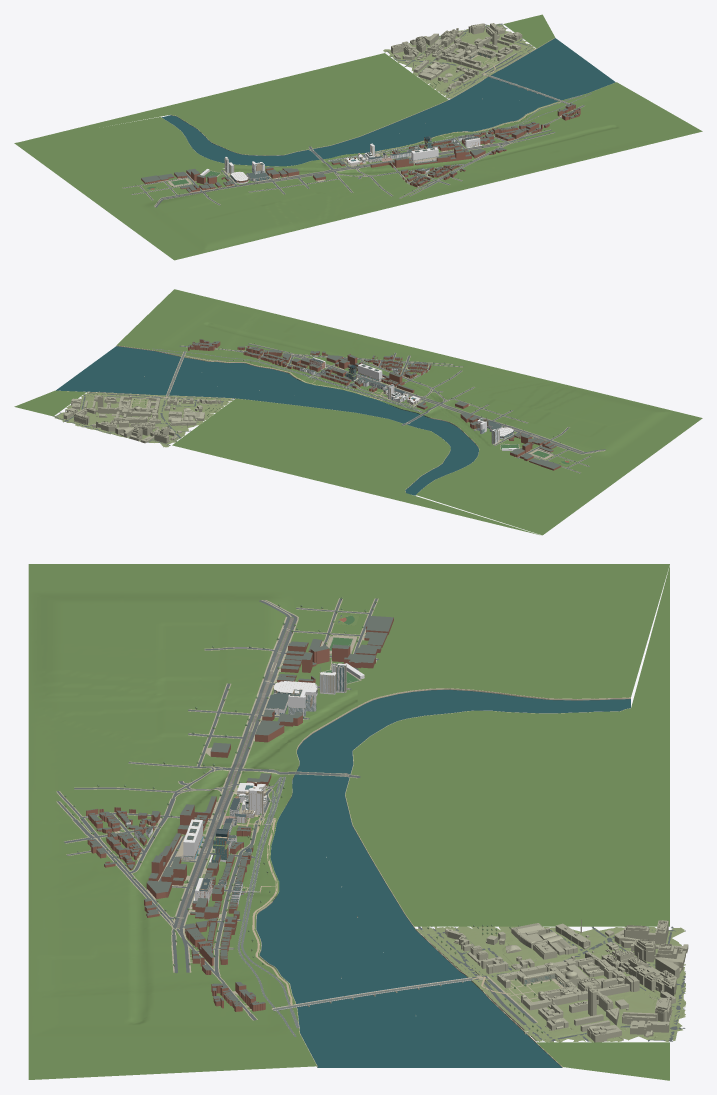
The model's file is boston-without-stata.glb.
3 views of the same model, one above another, from view 1: azimuth 30°, elevation 25°; view 2: azimuth 150°, elevation 25°; view 3: azimuth 270°, elevation 25° (orthographic). The views are drawn at different scales.
Visible parts, largest first — view 1: Charles grass ground, Charles River water, Cambridge_buildings_(untextured), Mobile brick, 2025_orthophotography, Mobile roof, Mobile road, Mobile paving, Charles stone, Charles asphalt ground, grass; view 2: Charles grass ground, Charles River water, Cambridge_buildings_(untextured), Mobile brick, 2025_orthophotography, Mobile roof, Mobile road, Mobile paving, Charles asphalt ground, Charles stone, grass, road; view 3: Charles grass ground, Charles River water, Cambridge_buildings_(untextured), 2025_orthophotography, Mobile roof, Mobile road, Mobile brick, Mobile paving, Charles asphalt ground, Charles stone, grass, Mobile gravel (+3 smaller).
Part boxes in pixels (left/top/right/bottom): Charles grass ground: left=14, top=14, right=702, bottom=260; Charles River water: left=162, top=38, right=615, bottom=166; Cambridge_buildings_(untextured): left=391, top=23, right=530, bottom=94; Mobile brick: left=141, top=104, right=580, bottom=192; 2025_orthophotography: left=383, top=23, right=535, bottom=98; Mobile roof: left=141, top=103, right=580, bottom=191; Mobile road: left=123, top=105, right=584, bottom=207; Mobile paving: left=122, top=105, right=584, bottom=206; Charles stone: left=163, top=38, right=615, bottom=166; Charles asphalt ground: left=327, top=75, right=591, bottom=161; grass: left=422, top=30, right=532, bottom=97; Charles grass ground: left=14, top=289, right=702, bottom=535; Charles River water: left=56, top=346, right=478, bottom=495; Cambridge_buildings_(untextured): left=63, top=391, right=220, bottom=443; Mobile brick: left=188, top=339, right=561, bottom=470; 2025_orthophotography: left=54, top=392, right=232, bottom=447; Mobile roof: left=188, top=339, right=560, bottom=468; Mobile road: left=179, top=343, right=605, bottom=473; Mobile paving: left=181, top=343, right=605, bottom=473; Charles asphalt ground: left=152, top=348, right=422, bottom=412; Charles stone: left=58, top=345, right=479, bottom=495; grass: left=85, top=392, right=232, bottom=429; road: left=53, top=393, right=233, bottom=445; Charles grass ground: left=28, top=564, right=669, bottom=1080; Charles River water: left=256, top=690, right=630, bottom=1067; Cambridge_buildings_(untextured): left=417, top=919, right=688, bottom=1042; 2025_orthophotography: left=416, top=926, right=686, bottom=1042; Mobile roof: left=86, top=615, right=393, bottom=1006; Mobile road: left=57, top=598, right=378, bottom=1020; Mobile brick: left=86, top=617, right=393, bottom=1011; Mobile paving: left=56, top=598, right=378, bottom=1020; Charles asphalt ground: left=237, top=776, right=472, bottom=1036; Charles stone: left=246, top=688, right=630, bottom=1067; grass: left=422, top=926, right=685, bottom=1041; Mobile gravel: left=177, top=617, right=293, bottom=928.
Size of the model in its own units: 3750 by 102 by 2026.
